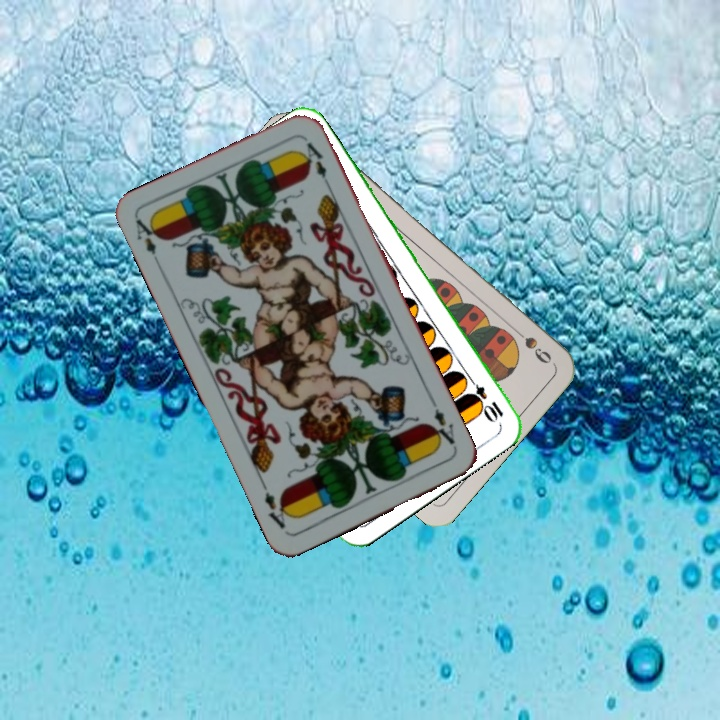E10: (462, 371, 507, 424)
EA: (131, 213, 164, 271), (425, 396, 458, 449)
S9: (506, 322, 554, 367)
